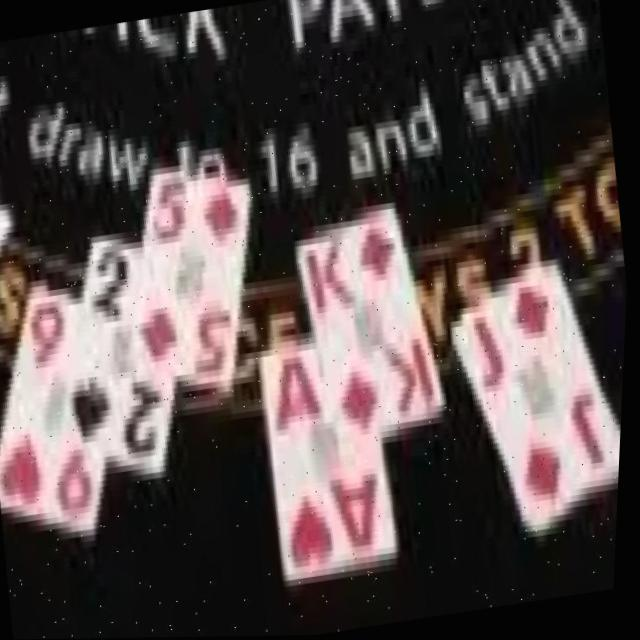Card-2: (66, 234, 179, 478)
Card-5: (139, 169, 251, 396)
Card-9: (1, 281, 108, 532)
Card-A: (262, 343, 402, 579)
Card-J: (452, 258, 625, 536)
Card-K: (298, 198, 449, 458)
